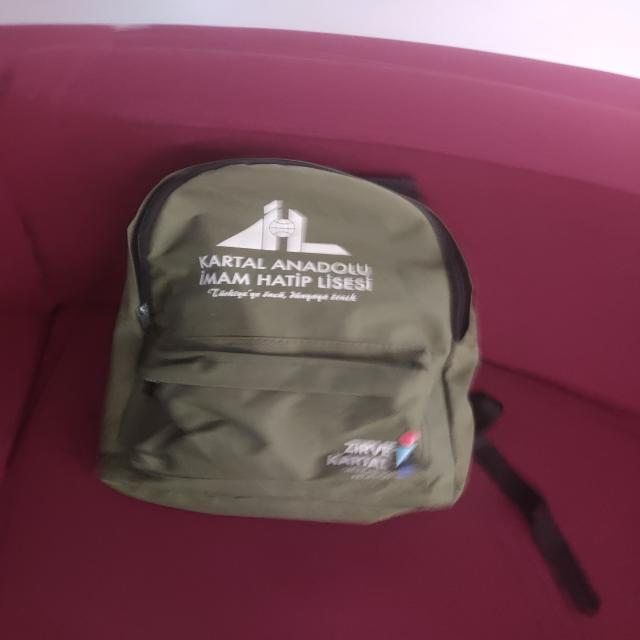bag: (109, 152, 482, 534)
